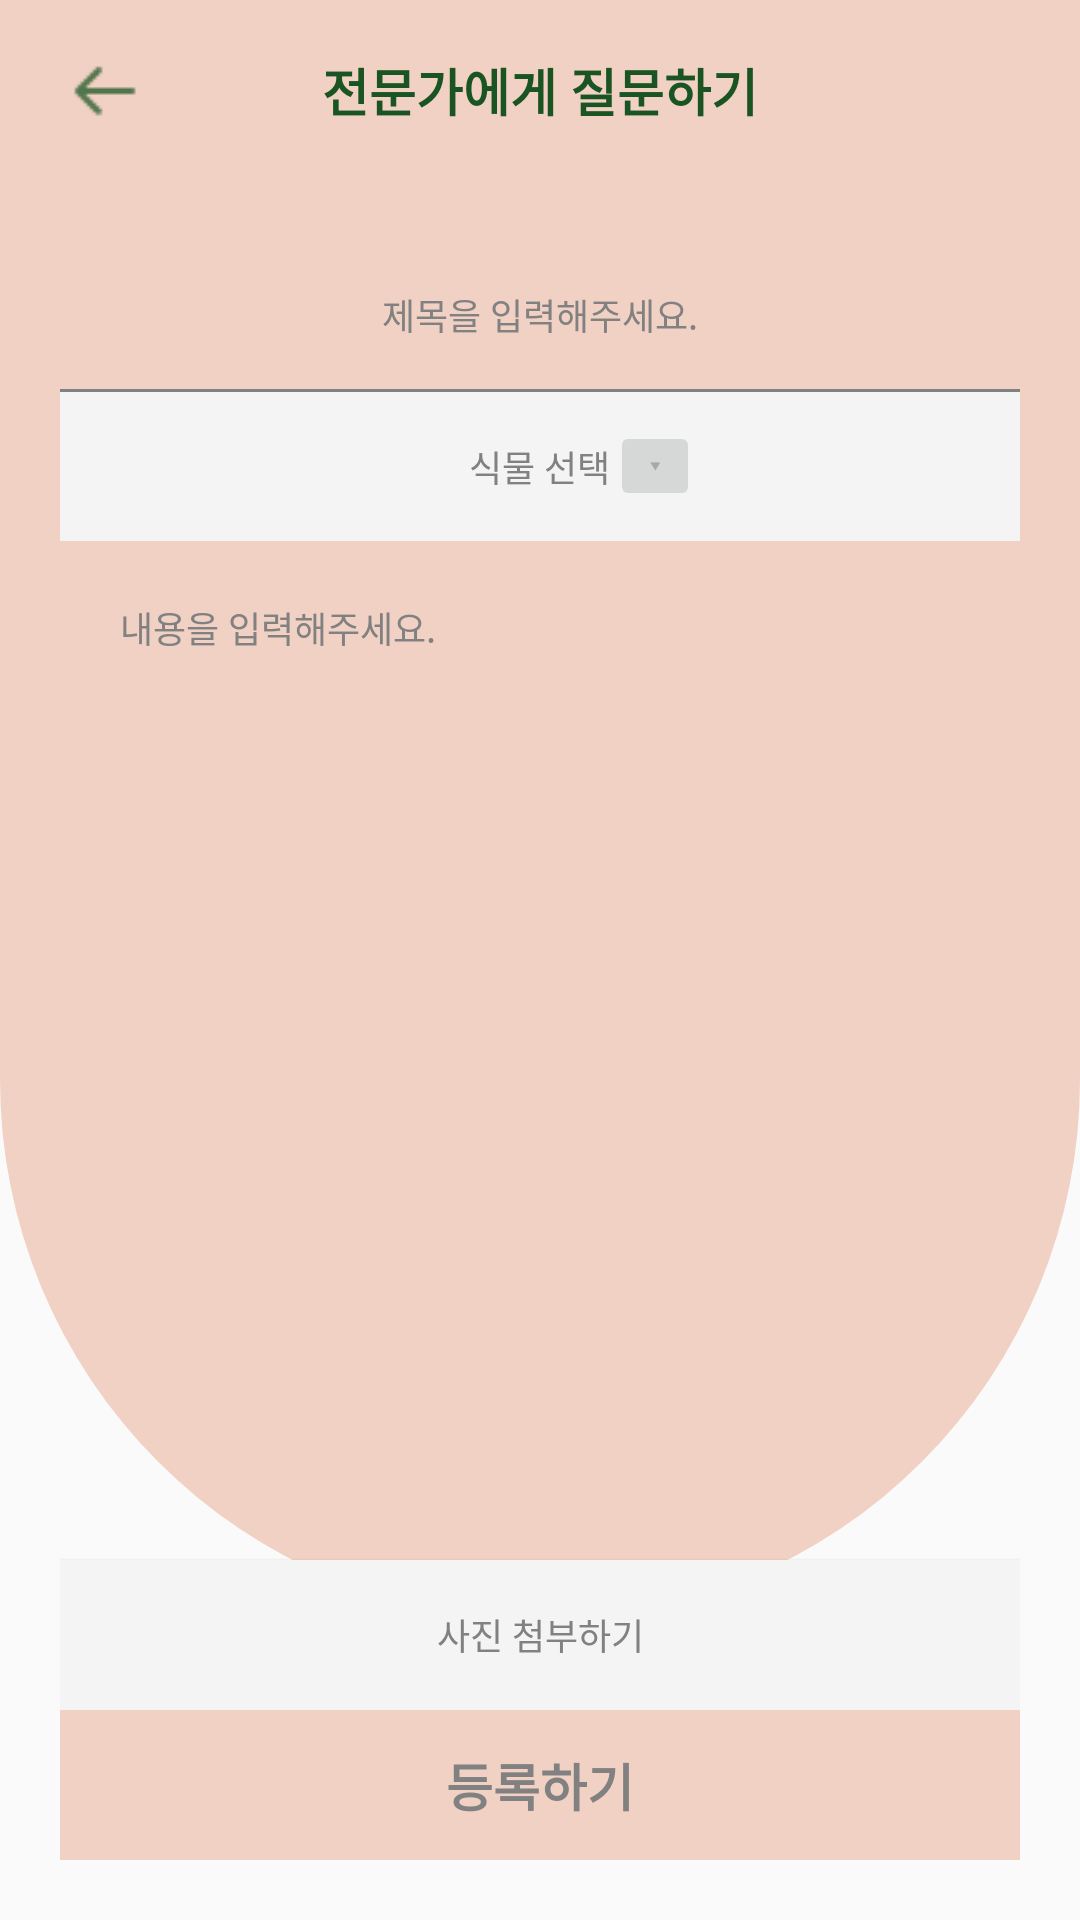

Point at icon controls on the screen. Image size 1080px x 1920px, points as (x,y).
back: (105,91)
down: (655,466)
